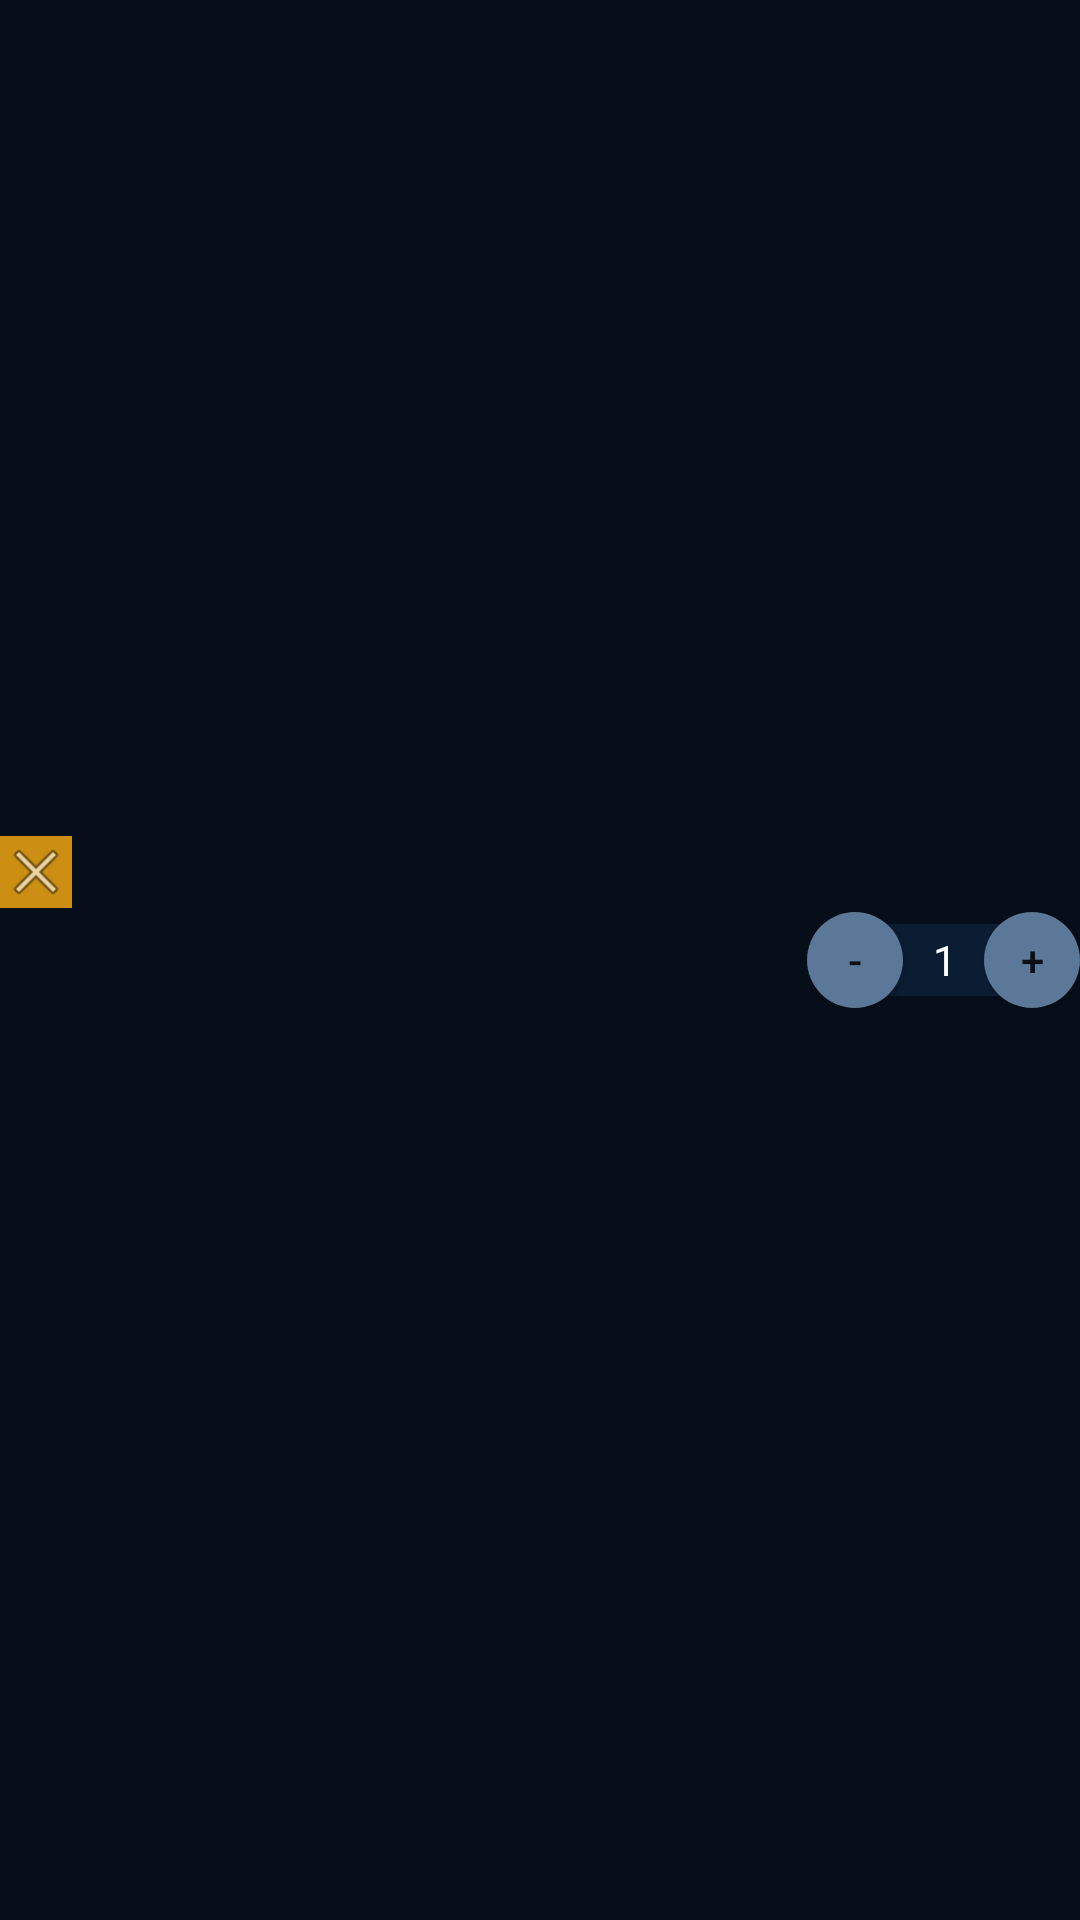

Locate icon controls on the screen. Image size 1080×1920, boxes as bbox=[x1, y1, x2, y2].
close clear cancel: bbox=[0, 836, 72, 908]
